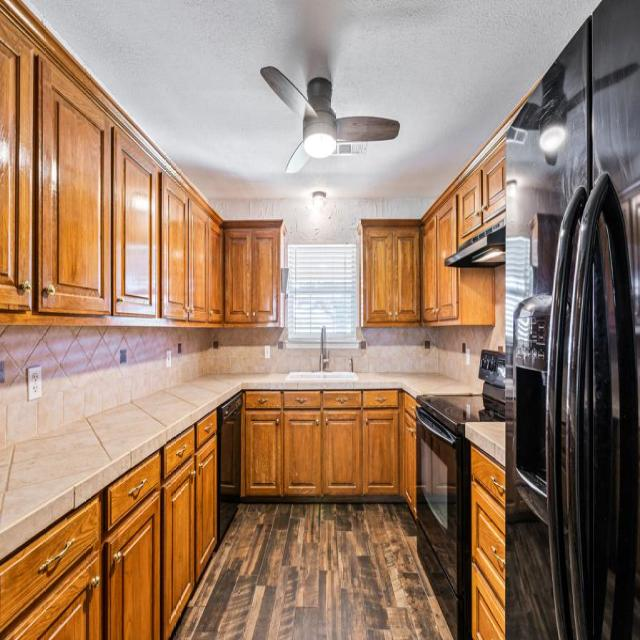dishwasher: (216, 391, 240, 542)
